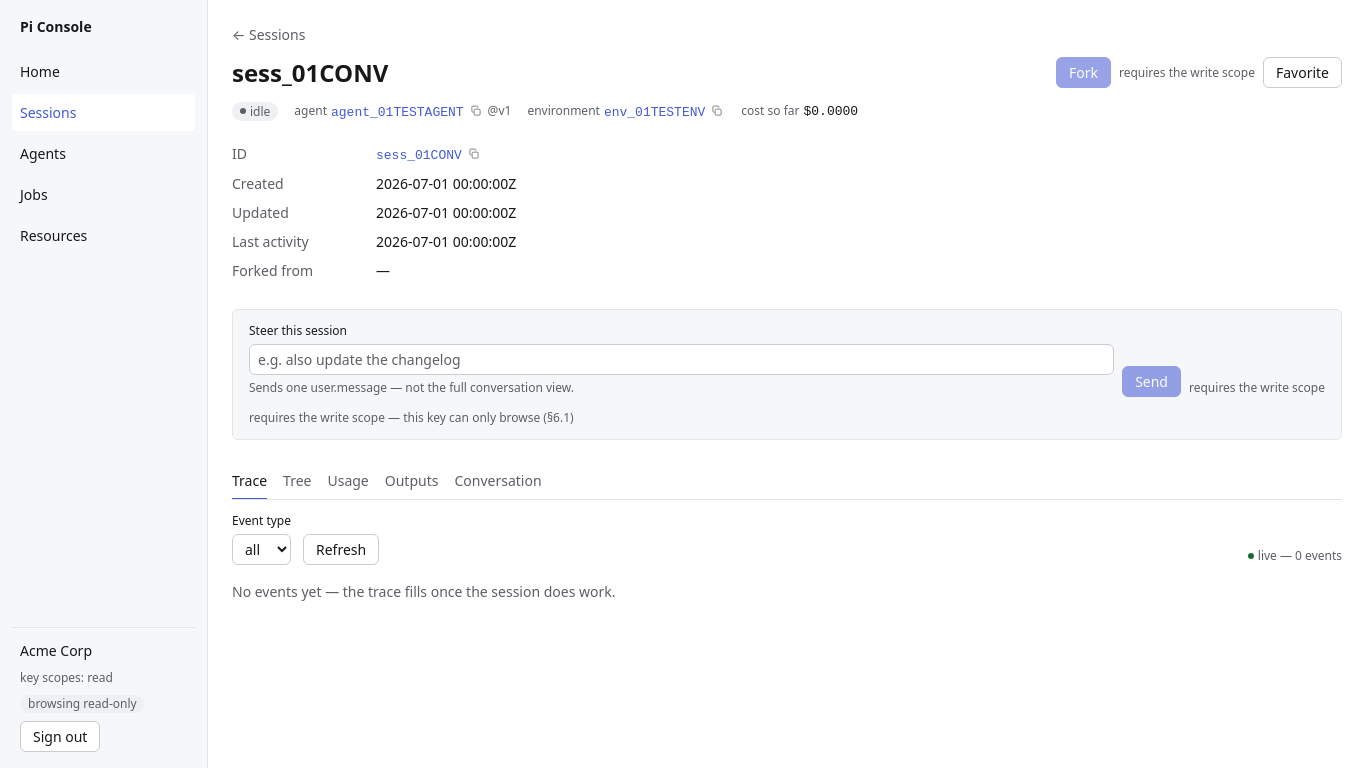
it: conversation rendering (§10.1 — a lens, not the Trace) › a message shape it does not recognize still renders (raw JSON fallback)
Check: the element named "Session detail" is shown, box [232, 464, 1342, 500]
Click the tab "Conversation": (498, 482) [454, 464, 542, 500]
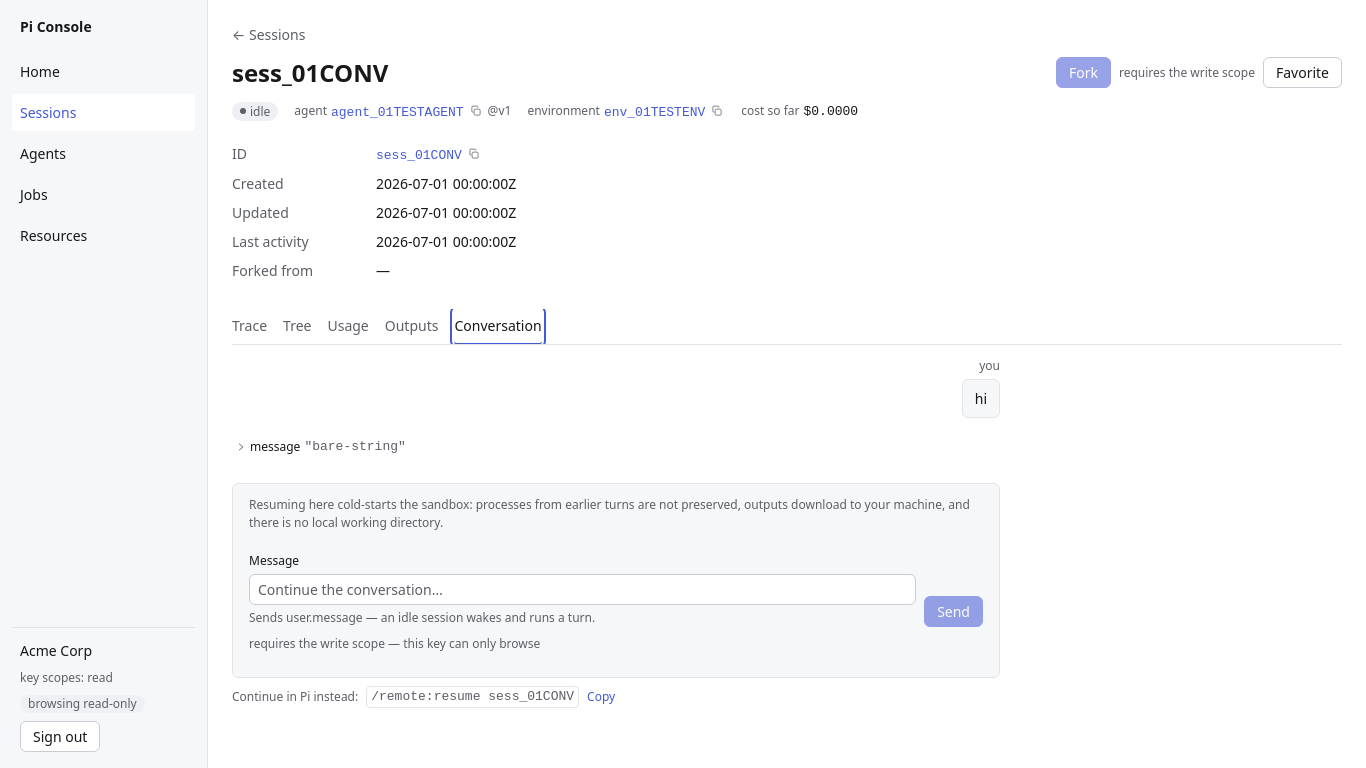
Check: the button "message \"bare-string\"" is shown, box [232, 434, 410, 459]
